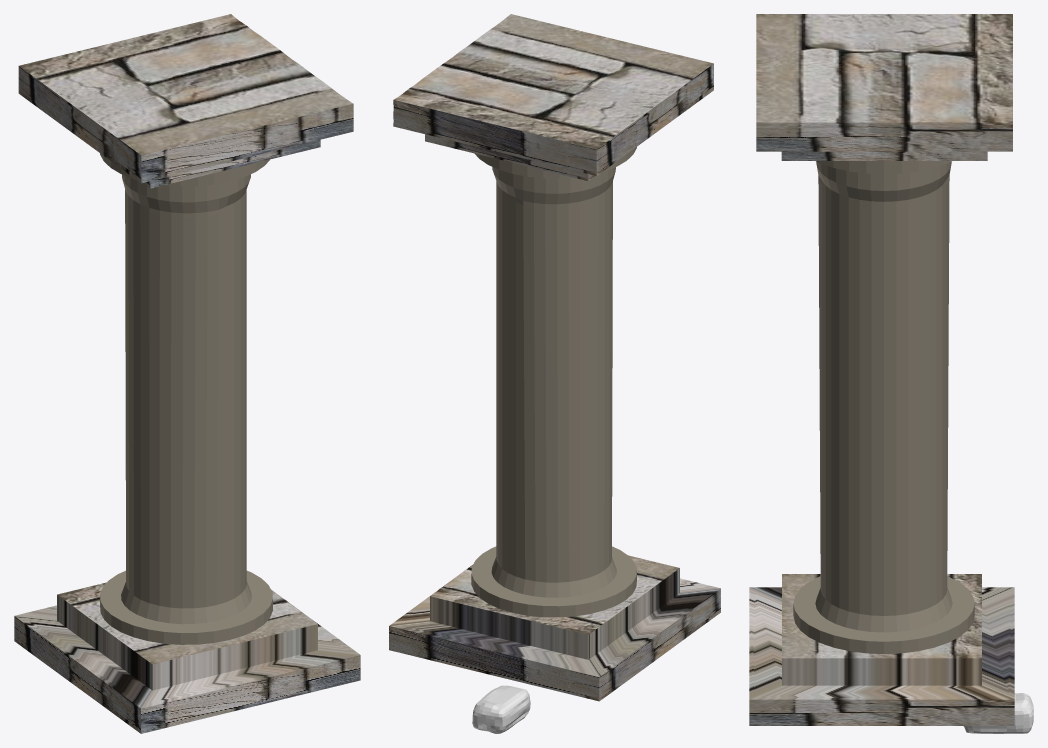
File: StonePillar_711.fbx
3 views of the same model, side by side, from view 1: azimuth 30°, elevation 25°; view 2: azimuth 150°, elevation 25°; view 3: azimuth 270°, elevation 25° (orthographic). The views are drawn at different scales.
Parts seen in each view (by area): view 1: Cube.004; view 2: Cube.004, Cube.002; view 3: Cube.004, Cube.002.
Boxes of the visible parts, x1,y1,x2,y2 form: Cube.004: (14,14,360,733); Cube.004: (389,14,720,701); Cube.002: (472,685,530,733); Cube.004: (749,14,1014,725); Cube.002: (963,693,1033,733).
Bounding box in the file's own units: 233 × 640 × 250.
1 material, 1 textured.
